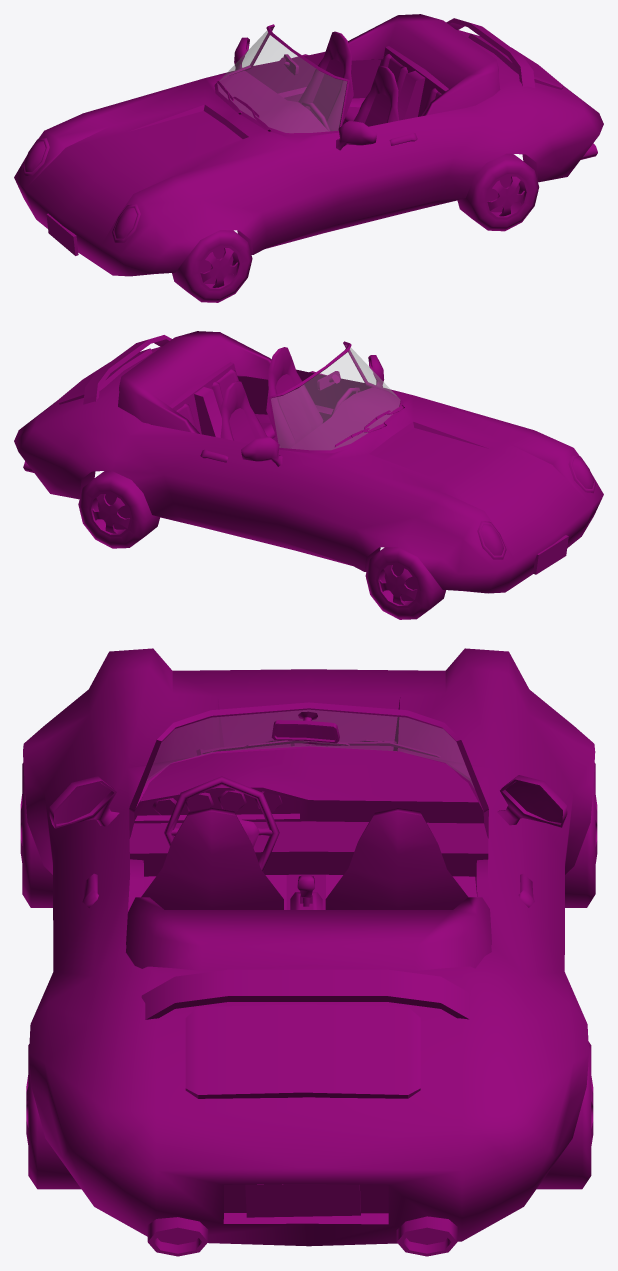
Rendered from Porche911.fbx.
The picture shows the model from 3 angles, top to bottom: view 1: azimuth 30°, elevation 25°; view 2: azimuth 150°, elevation 25°; view 3: azimuth 270°, elevation 25°; orthographic projection. The views are drawn at different scales.
Parts seen in each view (by area): view 1: CarBody, WindShield, RearWheels, FrontLeftWheel; view 2: CarBody, WindShield, RearWheels, FrontRightWheel; view 3: CarBody, WindShield, RearWheels, SteeringWheel, FrontLeftWheel, FrontRightWheel.
Part boxes in pixels (box(x1,y1,x2,y2)): CarBody: box(14, 14, 603, 276); WindShield: box(217, 27, 346, 132); RearWheels: box(457, 153, 539, 231); FrontLeftWheel: box(172, 230, 252, 302); CarBody: box(14, 331, 603, 593); WindShield: box(271, 345, 400, 449); RearWheels: box(78, 470, 159, 548); FrontRightWheel: box(365, 547, 445, 619); CarBody: box(23, 648, 595, 1256); WindShield: box(145, 710, 473, 786); RearWheels: box(26, 1041, 593, 1189); SteeringWheel: box(164, 776, 279, 871); FrontLeftWheel: box(20, 763, 52, 907); FrontRightWheel: box(565, 763, 597, 907).
Size of the model in its own units: 5.65 by 1.82 by 2.82.
